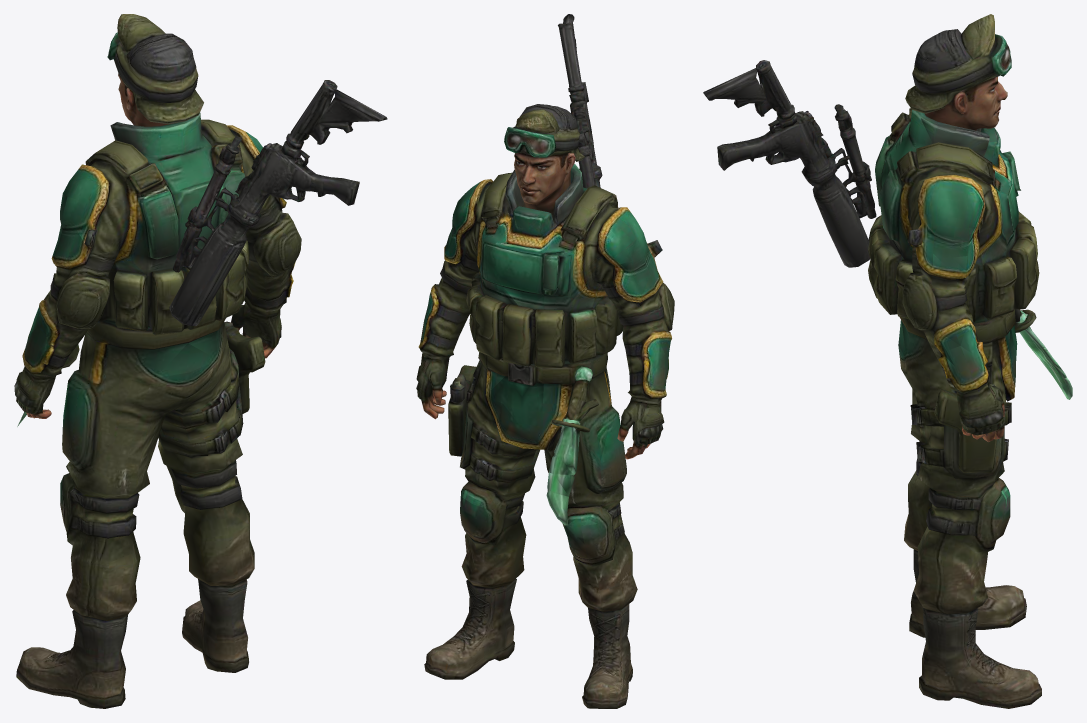
The model's file is river_rifle.glb.
3 views of the same model, side by side, from view 1: azimuth 30°, elevation 25°; view 2: azimuth 150°, elevation 25°; view 3: azimuth 270°, elevation 25° (orthographic). The views are drawn at different scales.
Parts seen in each view (by area): view 1: Body, Trim; view 2: Body, Trim; view 3: Body, Trim.
Boxes of the visible parts, x1,y1,x2,y2 form: Body: (14,14,387,708); Trim: (27,33,262,413); Body: (416,14,674,708); Trim: (424,127,664,543); Body: (703,14,1072,708); Trim: (884,36,1071,499).
Bounding box in the file's own units: 0.7644 × 1.8 × 0.9405.
2 materials, 2 textured.
